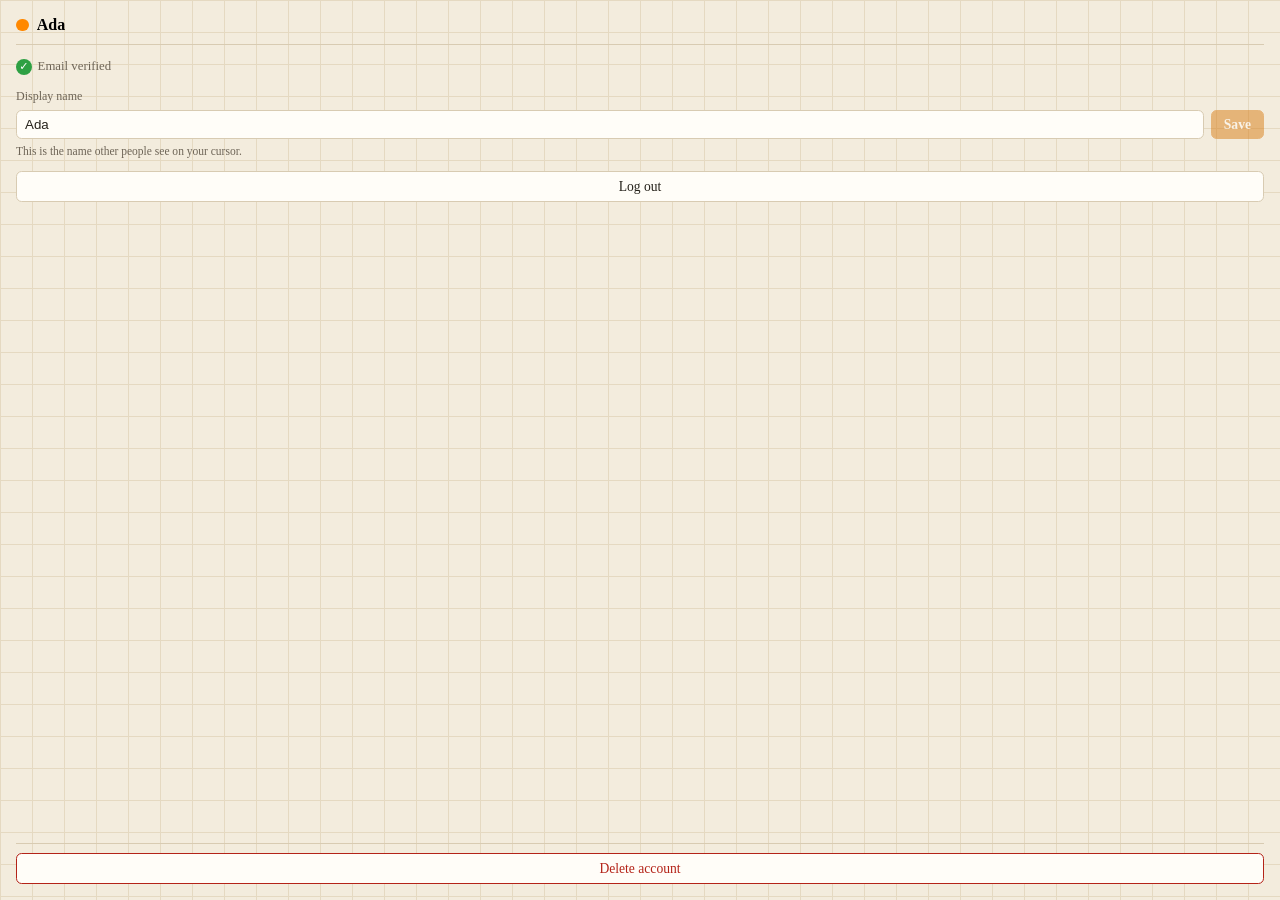
Scenario: AccountTab deletion › asks for a second, deliberate confirmation
Click the button "Delete account" at (640, 869), box 16,853 -> 1264,884
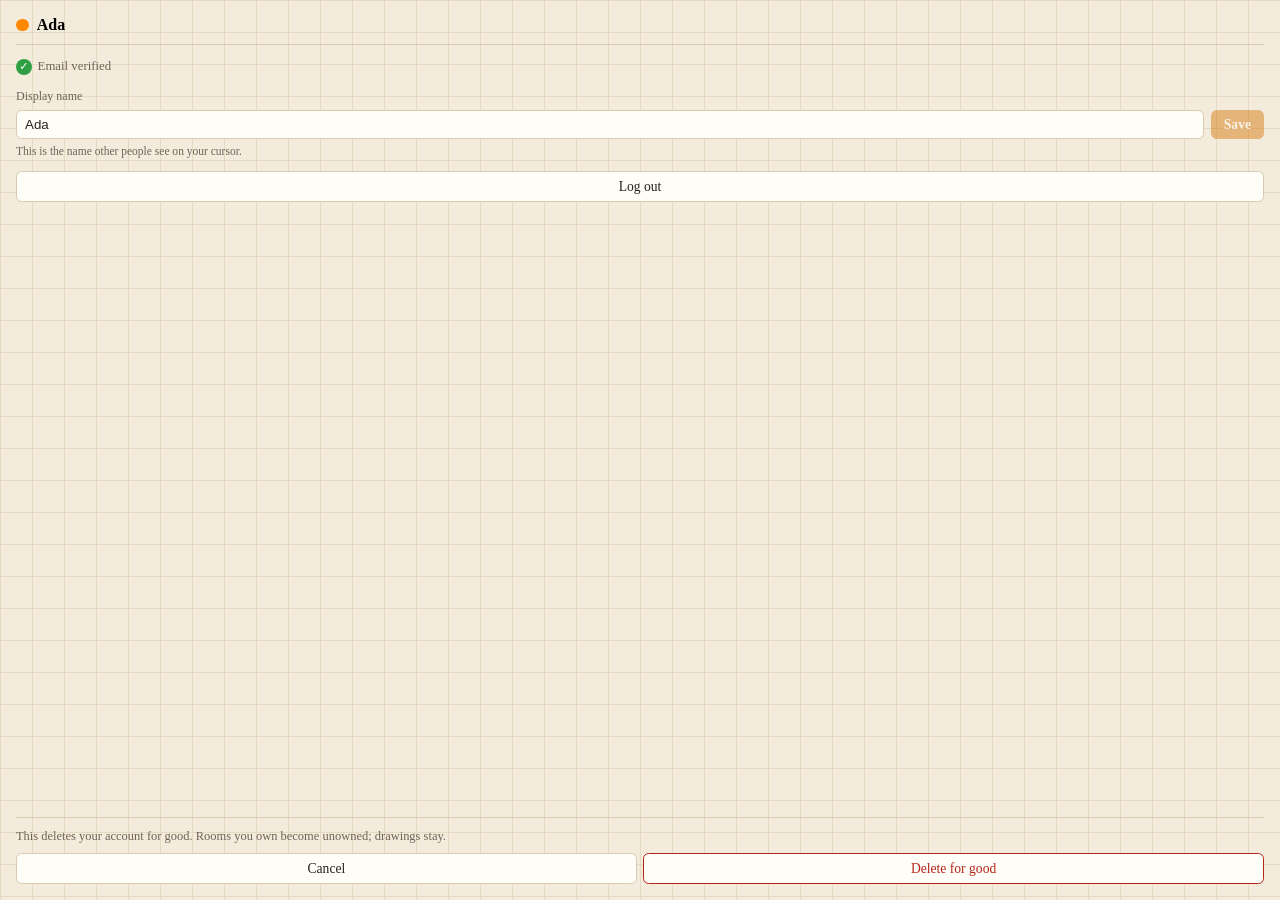
Check: the button "Delete for good" is shown, box 643,853 -> 1264,884
